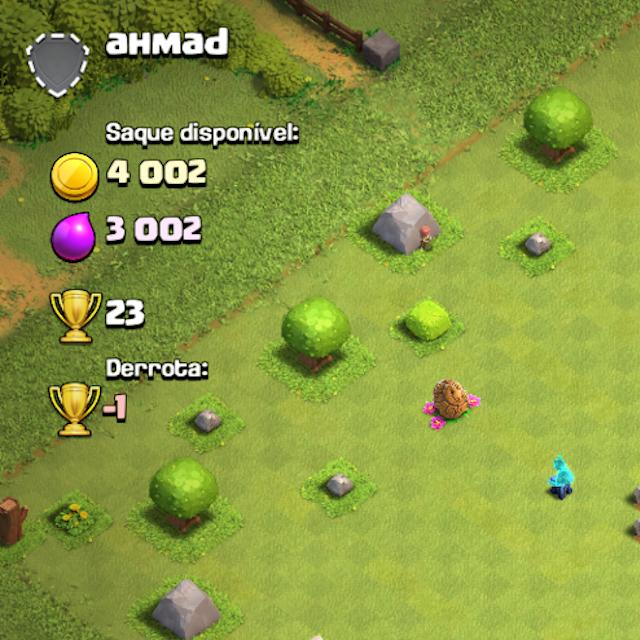ValueCoin: (105, 147, 210, 202)
ValueElixir: (103, 213, 212, 257)
